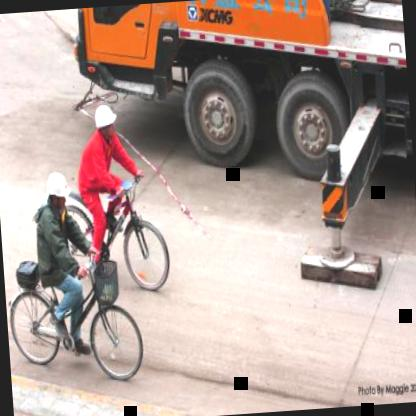helmet: (44, 171, 70, 214), (92, 102, 121, 140)
